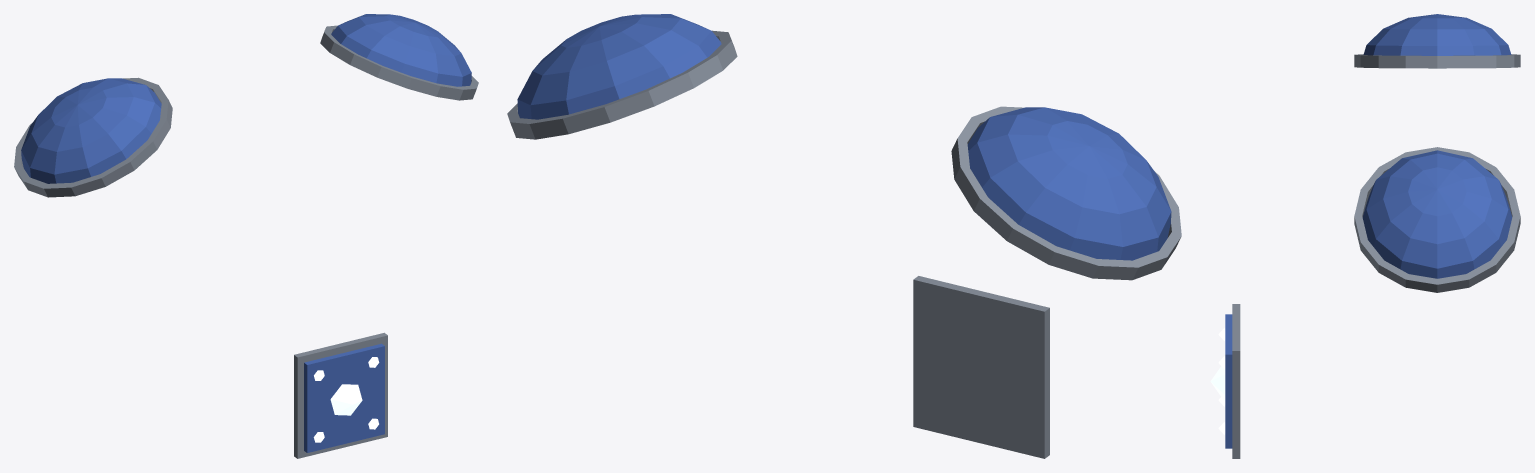
The model's file is armor_guard_chest_rare_human.glb.
The picture shows the model from 3 angles, left to right: view 1: azimuth 30°, elevation 25°; view 2: azimuth 150°, elevation 25°; view 3: azimuth 270°, elevation 25°; orthographic projection. The views are drawn at different scales.
Parts seen in each view (by area): view 1: armor_guard_chest_rare_human__clavicle_r, armor_guard_chest_rare_human__spine_03, armor_guard_chest_rare_human__clavicle_l; view 2: armor_guard_chest_rare_human__clavicle_r, armor_guard_chest_rare_human__spine_03, armor_guard_chest_rare_human__clavicle_l; view 3: armor_guard_chest_rare_human__clavicle_l, armor_guard_chest_rare_human__clavicle_r, armor_guard_chest_rare_human__spine_03.
Boxes of the visible parts, x1,y1,x2,y2 form: armor_guard_chest_rare_human__clavicle_r: [14, 77, 172, 197]; armor_guard_chest_rare_human__spine_03: [294, 332, 387, 458]; armor_guard_chest_rare_human__clavicle_l: [320, 14, 478, 100]; armor_guard_chest_rare_human__clavicle_r: [951, 106, 1181, 280]; armor_guard_chest_rare_human__spine_03: [913, 276, 1049, 458]; armor_guard_chest_rare_human__clavicle_l: [507, 14, 737, 139]; armor_guard_chest_rare_human__clavicle_l: [1354, 147, 1520, 292]; armor_guard_chest_rare_human__clavicle_r: [1354, 14, 1520, 68]; armor_guard_chest_rare_human__spine_03: [1210, 304, 1240, 458].
Size of the model in its own units: 69.81 by 48.41 by 39.56.
